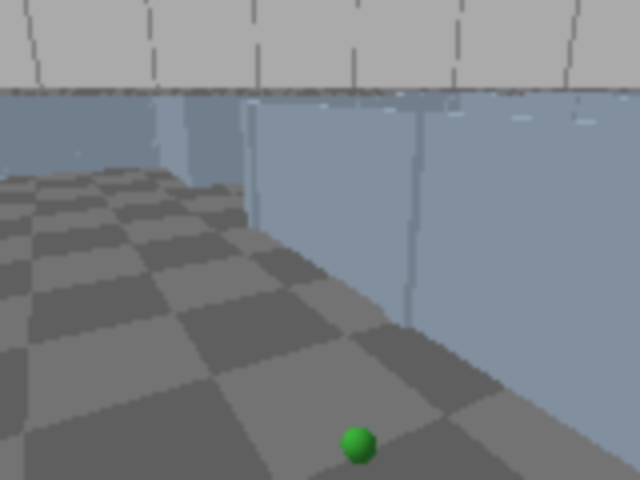puck: (335, 415, 384, 478)
